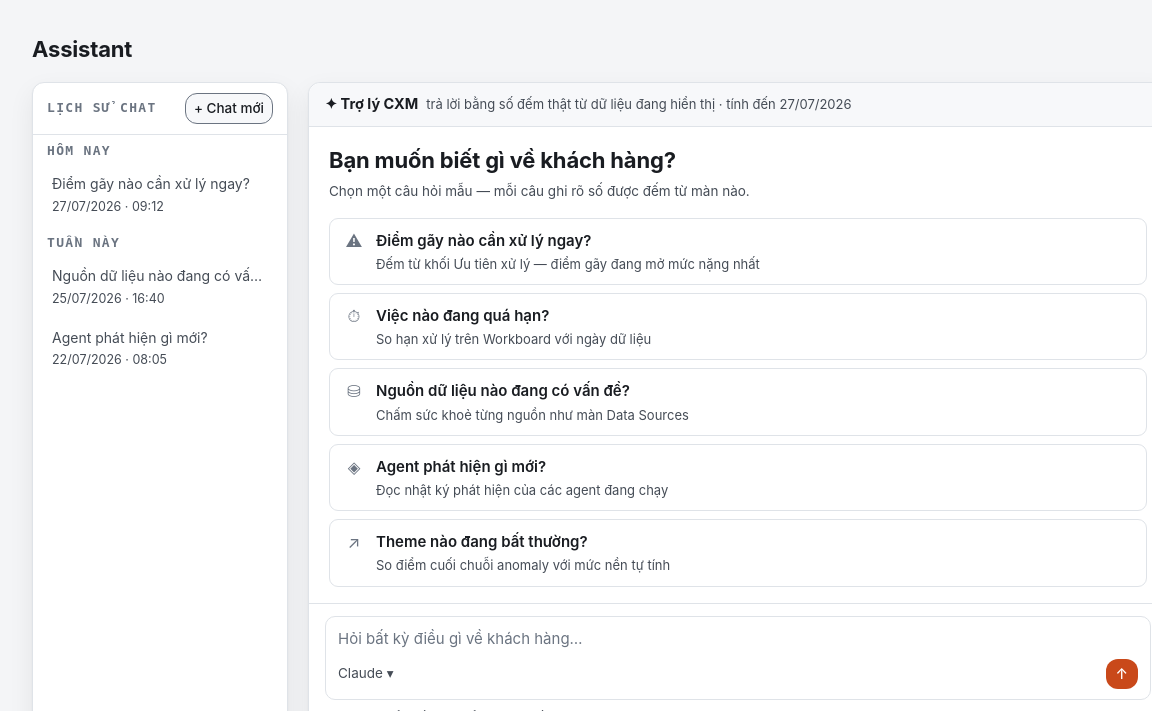
Test: lịch sử phiên chat › '+ Chat mới' quay về landing; phiên vừa hỏi được thêm vào lịch sử nhóm Hôm nay
Click the button with test id "assistant-prompt-p-sources": (503, 391) x1=329 y1=368 x2=1147 y2=436
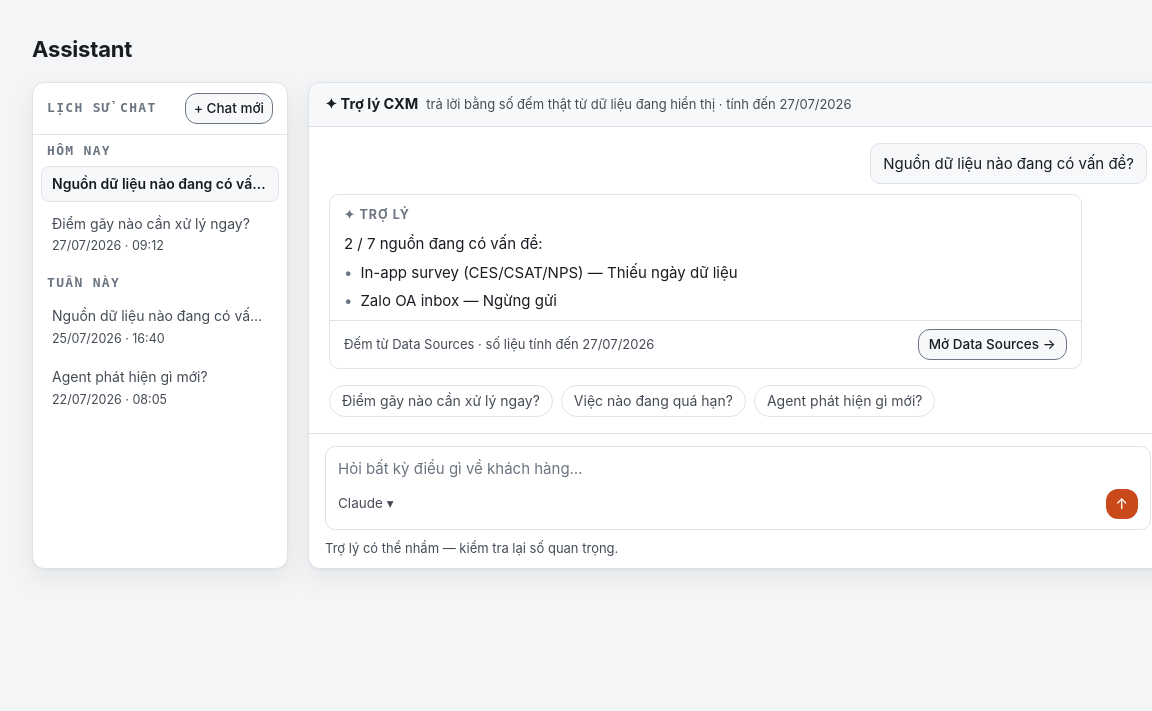
Click the button with test id "assistant-new": (229, 109) x1=185 y1=93 x2=273 y2=124
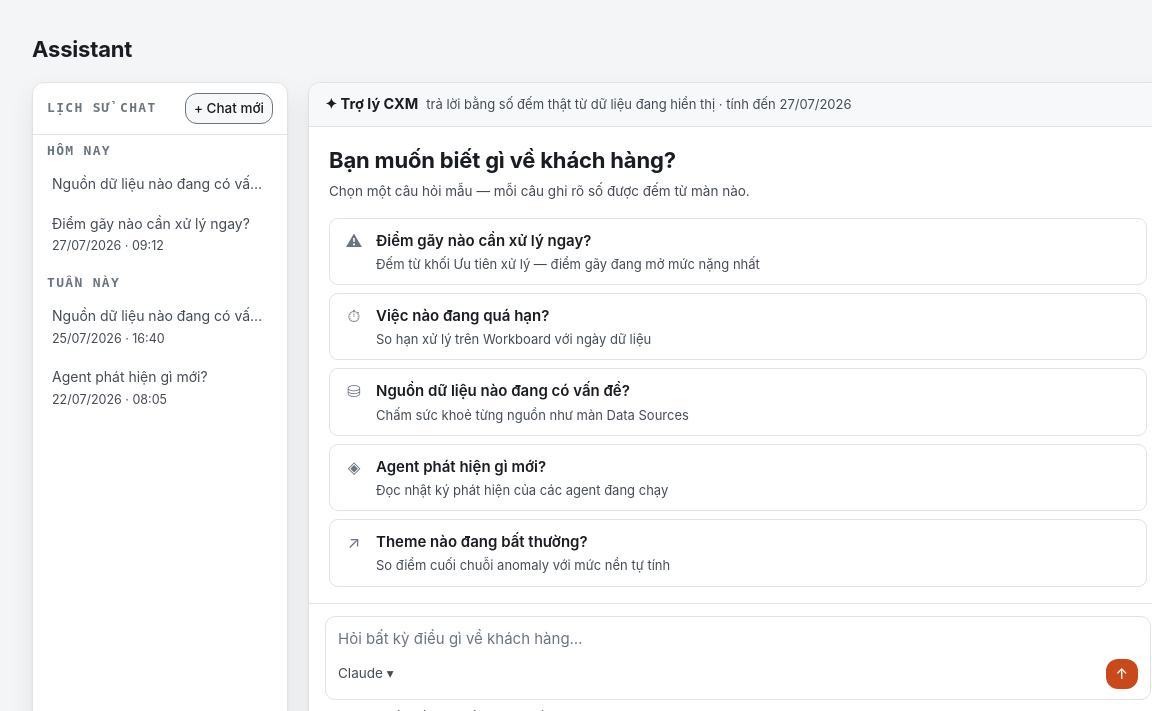
expect the text "Nguồn dữ liệu nào đang có vấn đề?" below "Hôm nay" is shown: met, box x1=52 y1=175 x2=286 y2=192
expect the element with test id "assistant-landing" is shown: met, box x1=329 y1=143 x2=1147 y2=587
